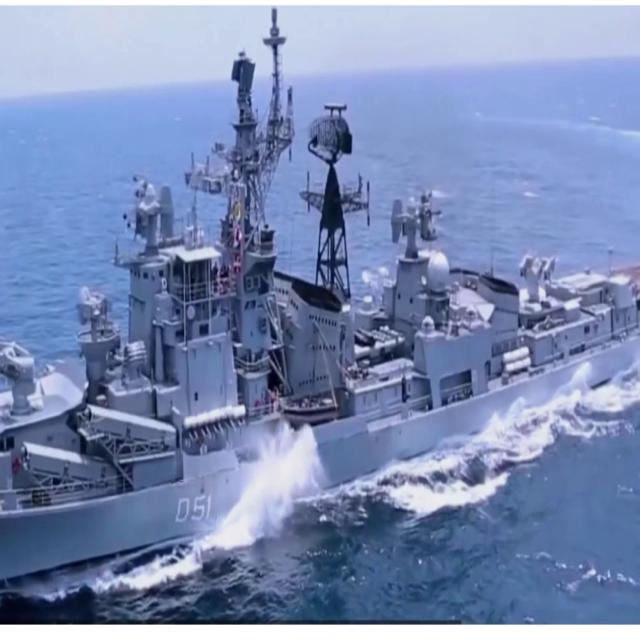OCR: (166, 479, 217, 530)
